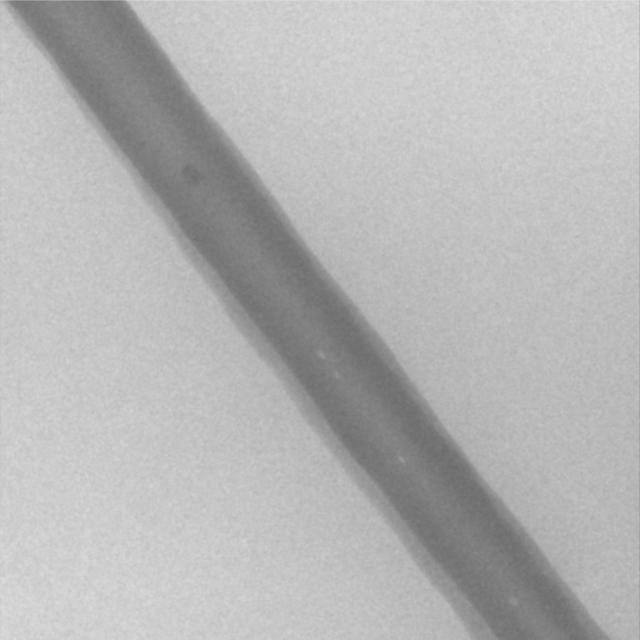air hole: (507, 596, 518, 608), (315, 350, 325, 358), (396, 455, 404, 464)
